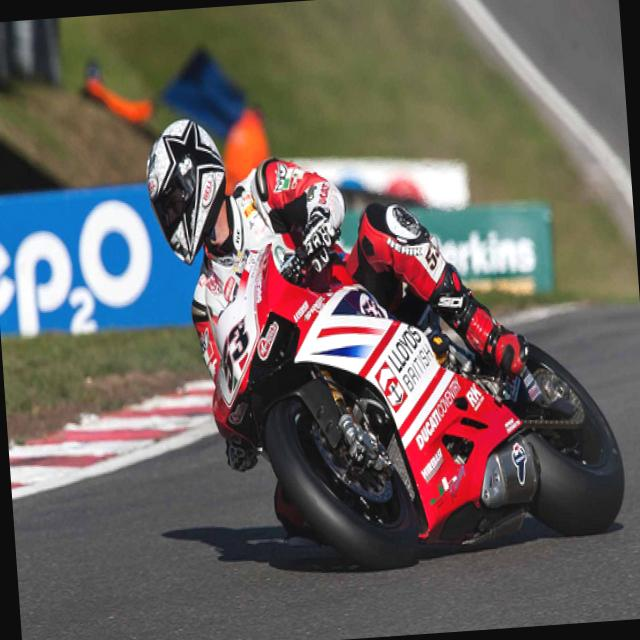Vehicle: (198, 218, 632, 582)
